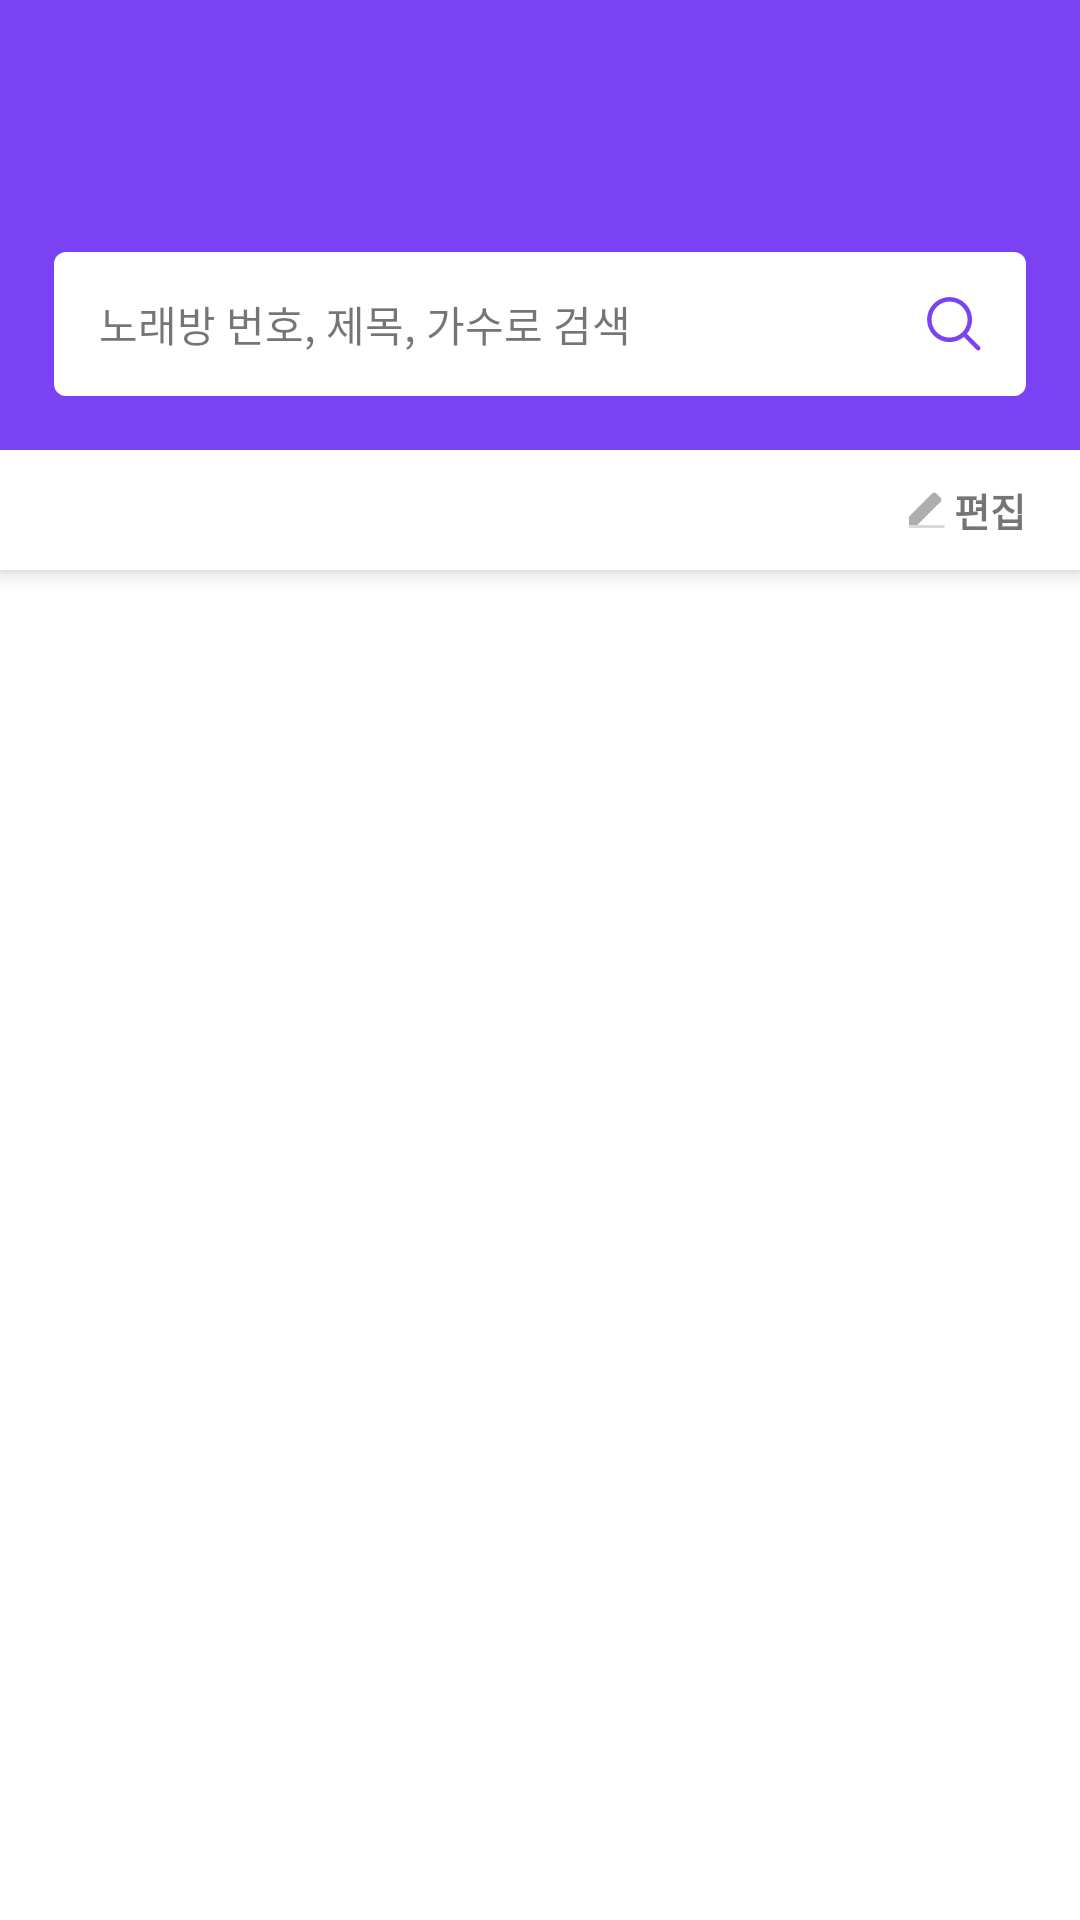

Named icons in this screenshot (1080×1920) and their centers, (x=x, y=y):
search: (x=954, y=324)
